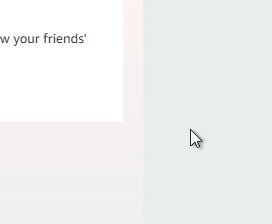cursor: (187, 126, 204, 150)
